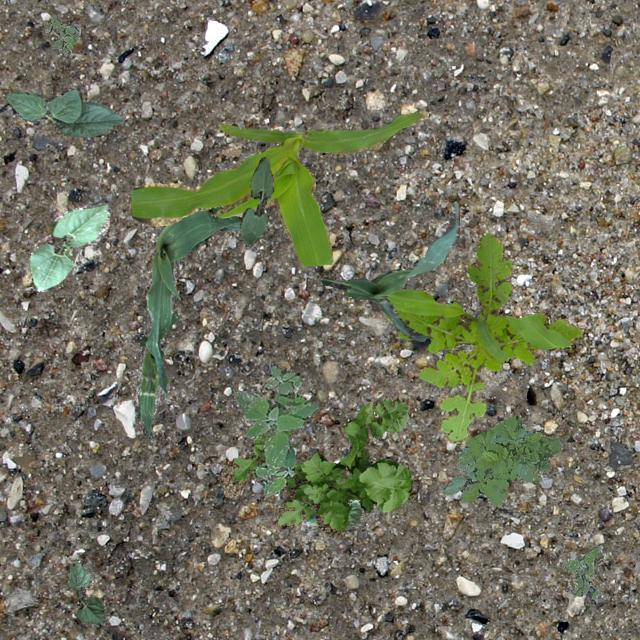crop: (130, 110, 428, 266), (134, 203, 240, 438), (318, 200, 458, 340), (28, 202, 110, 290), (6, 86, 122, 136), (238, 154, 272, 244), (68, 556, 106, 622), (302, 498, 362, 526)
weed: (384, 232, 582, 442), (220, 397, 410, 538), (232, 364, 316, 496), (441, 414, 562, 504), (558, 544, 600, 598), (42, 12, 80, 56)
